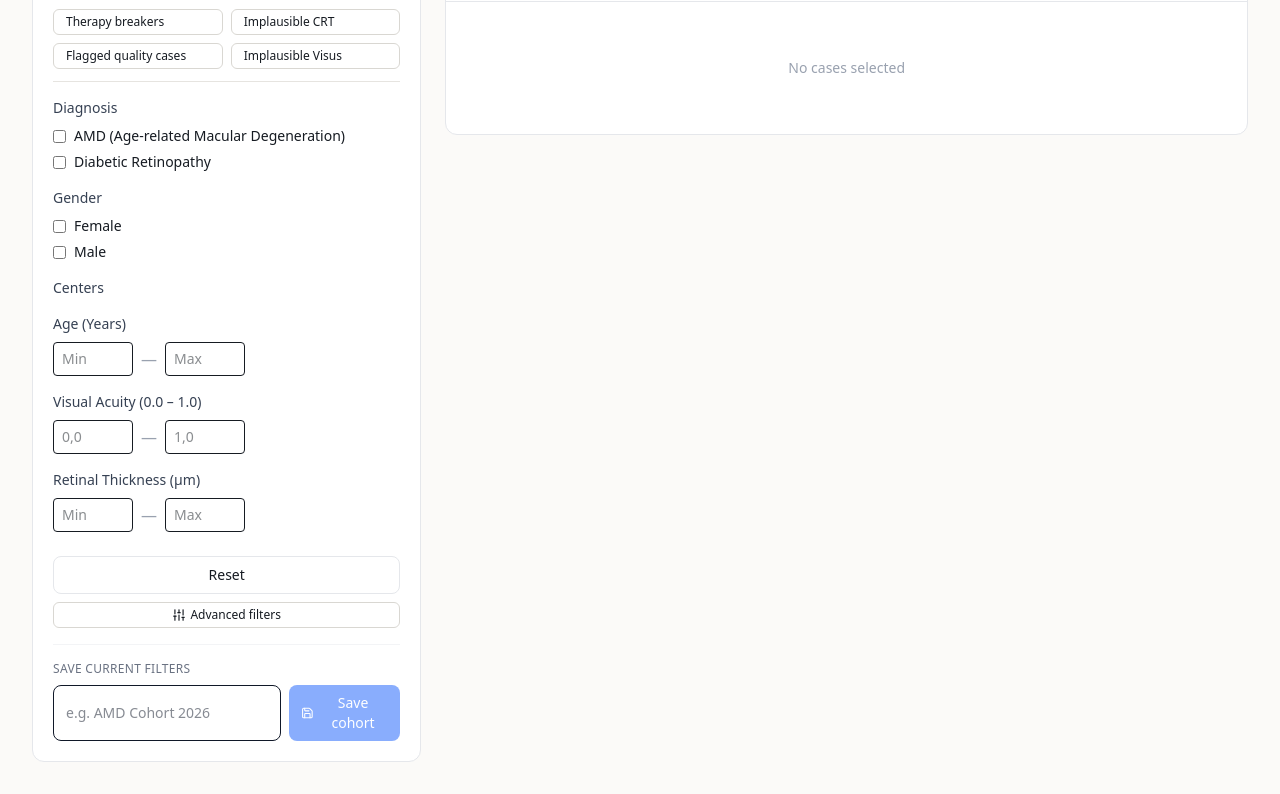
subcohort save validation (SC1, SC5) › SC1 (empty sub): shows cohortNameEmptySub error and disables Save cohort button
The width and height of the screenshot is (1280, 794).
(page scrolled)
Type "Parent:" into the field with placeholder "e.g. AMD Cohort 2026" at (167, 713), box x1=53 y1=685 x2=281 y2=741
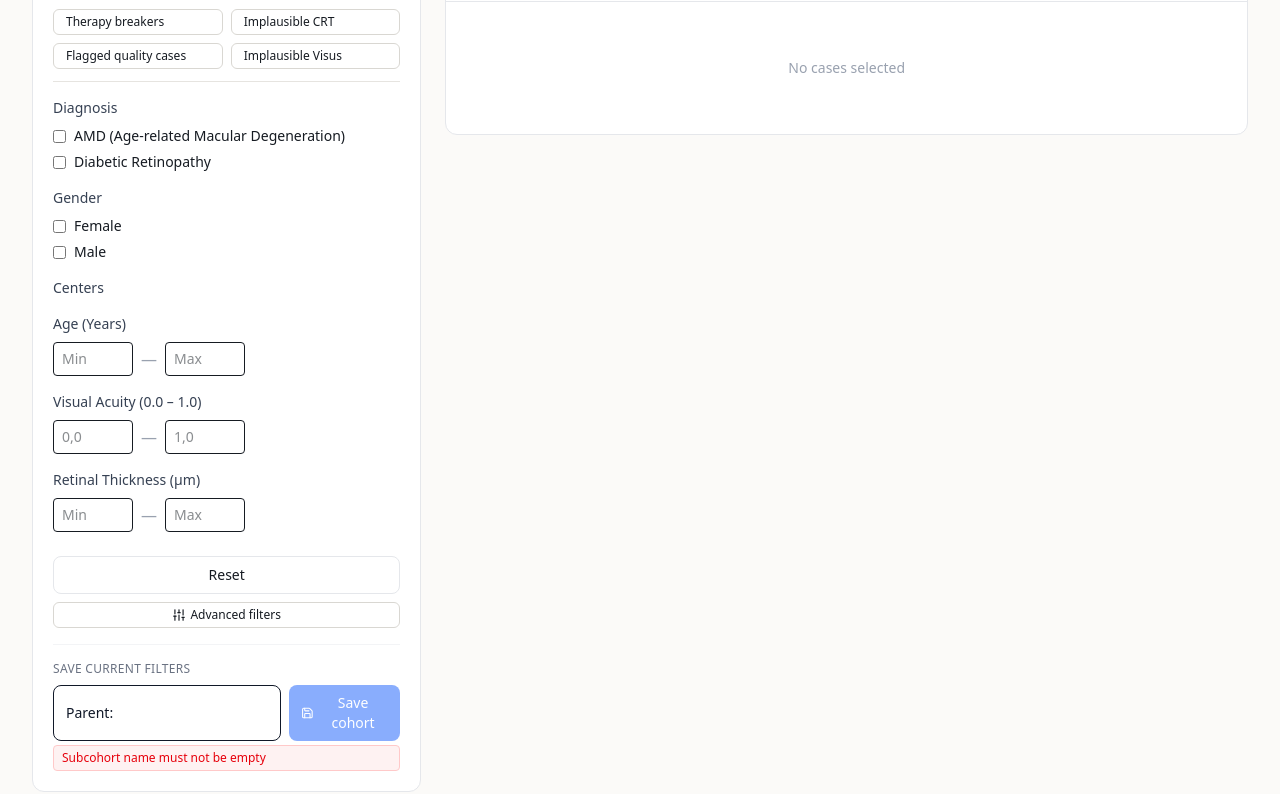
Expected: the button "Save cohort" is disabled, x1=289 y1=685 x2=400 y2=741
Now the text "Subcohort name must not be empty" is shown, box x1=53 y1=745 x2=400 y2=771
